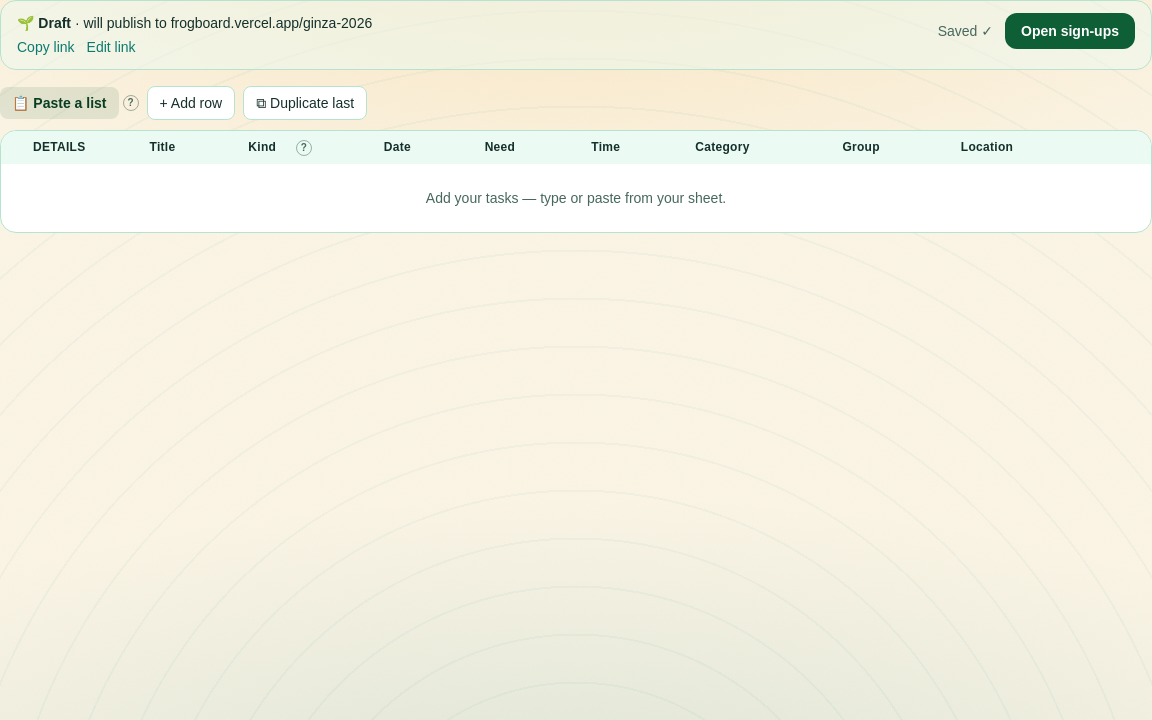
Scenario: explanations are tucked behind ? popovers, not shown as a wall of text
Expected: the text "each line becomes a task" is not shown
Expected: the text "one-off need" is not shown
Note: Paste-a-list help opens on demand
Click the 1st button "?": (130, 103) [122, 95, 138, 111]
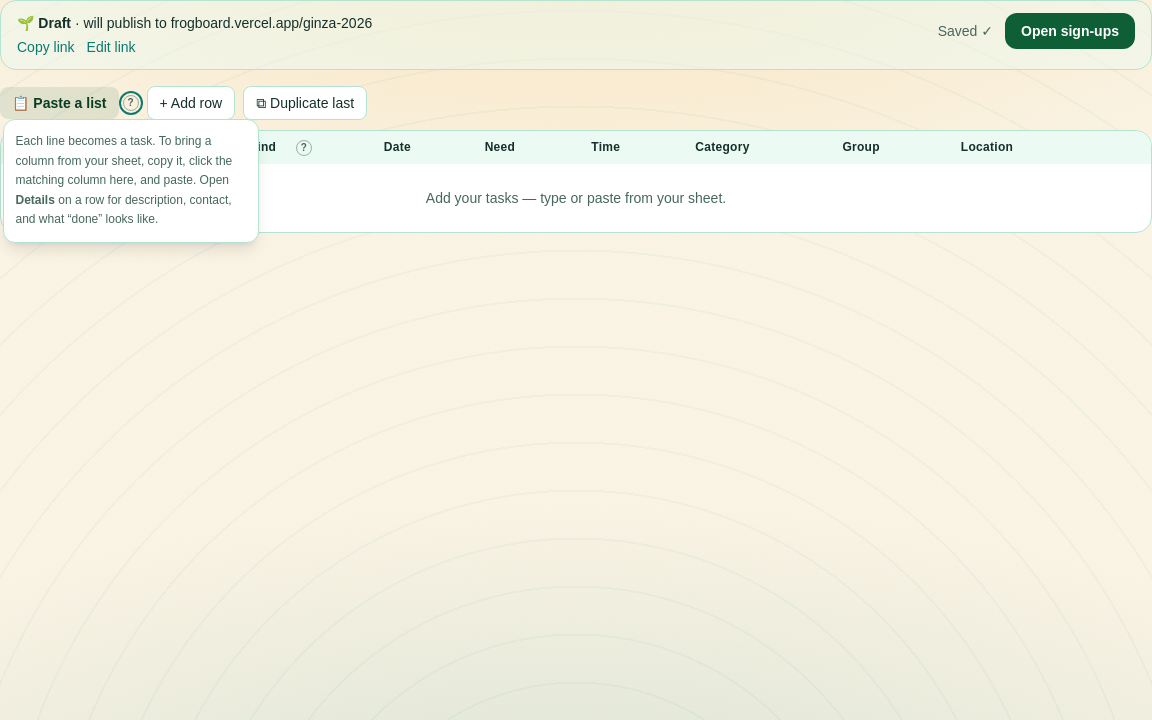
Now the tooltip "Each line becomes a task" is shown, box [16, 134, 232, 187]
Note: Kind help explains Shift vs Task
Click the button named "shift vs task": (304, 148) [296, 140, 312, 156]
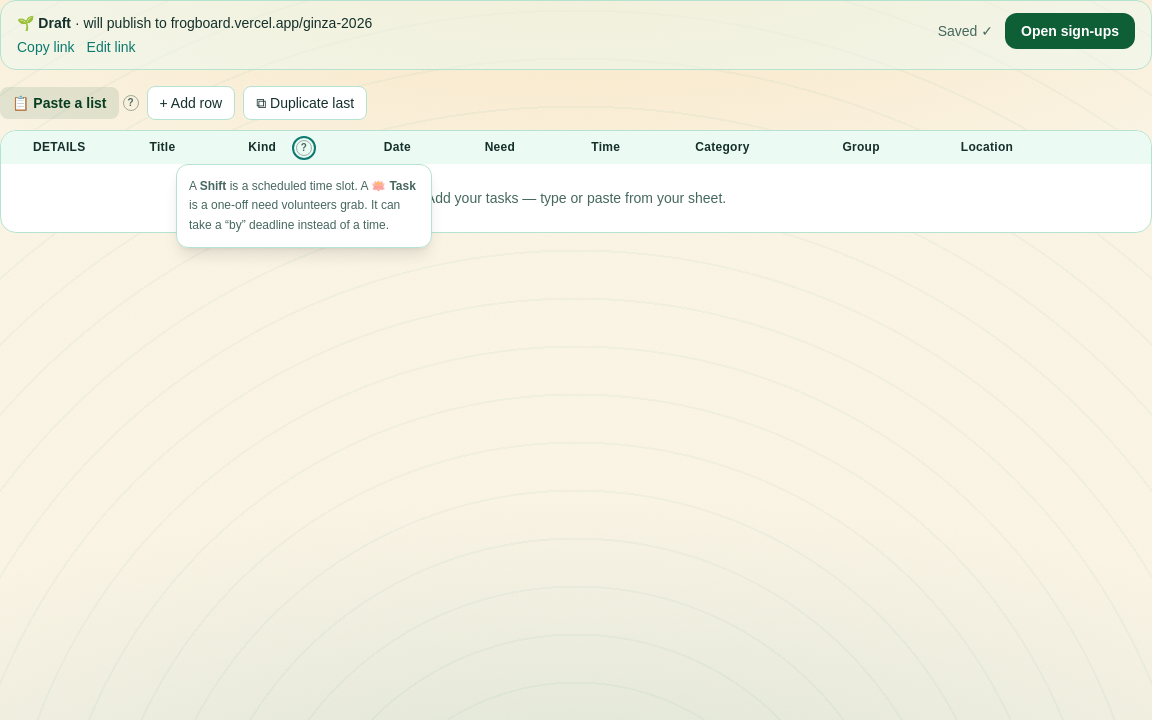
Now the tooltip "one-off need" is shown, box [189, 198, 400, 232]
